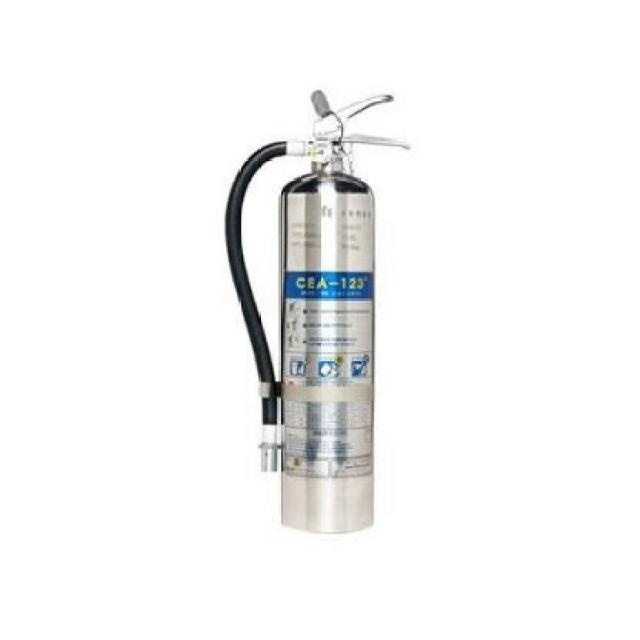fire extinguisher: (225, 94, 411, 534)
